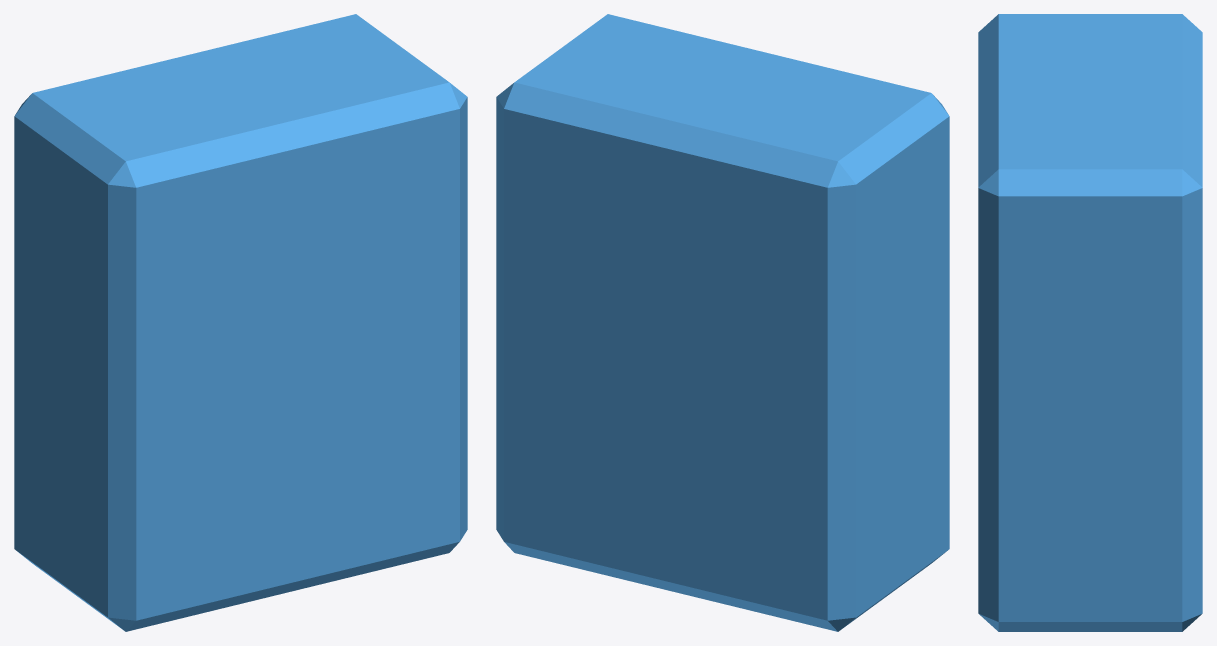
Rendered from waist__side_clip__runner_clip.glb.
The picture shows the model from 3 angles, left to right: view 1: azimuth 30°, elevation 25°; view 2: azimuth 150°, elevation 25°; view 3: azimuth 270°, elevation 25°; orthographic projection.
Parts seen in each view (by area): view 1: armor_topping_waist_side_clip_runner_clip_v001_v001; view 2: armor_topping_waist_side_clip_runner_clip_v001_v001; view 3: armor_topping_waist_side_clip_runner_clip_v001_v001.
Boxes of the visible parts, x1,y1,x2,y2 form: armor_topping_waist_side_clip_runner_clip_v001_v001: (14,14,467,631); armor_topping_waist_side_clip_runner_clip_v001_v001: (496,14,949,631); armor_topping_waist_side_clip_runner_clip_v001_v001: (978,14,1202,631).
Size of the model in its own units: 0.04 by 0.05 by 0.022.
